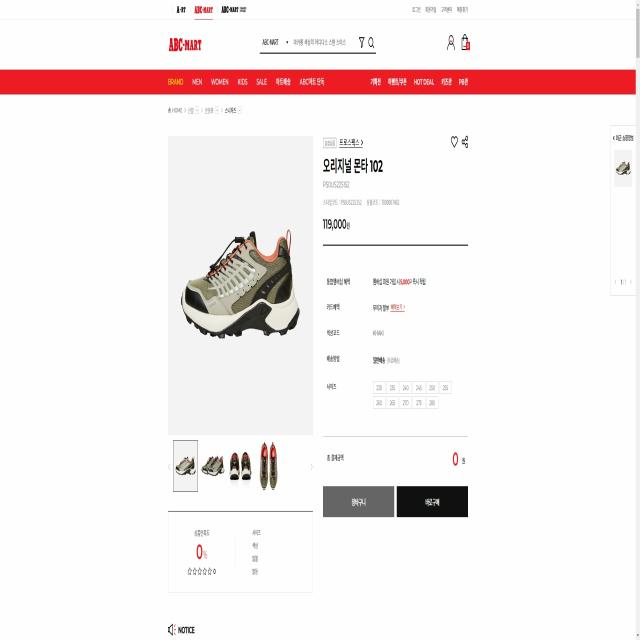menu-bar: (442, 30, 473, 56)
search: (258, 25, 384, 59)
side-panel: (317, 115, 471, 528)
tab-bar: (164, 71, 331, 92)
